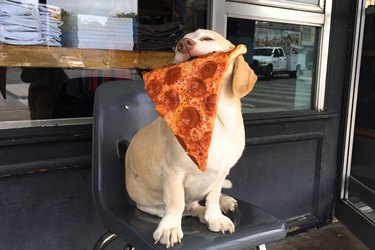Pizza: (141, 43, 248, 174)
